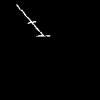double_crochet: (17, 5, 49, 35)
